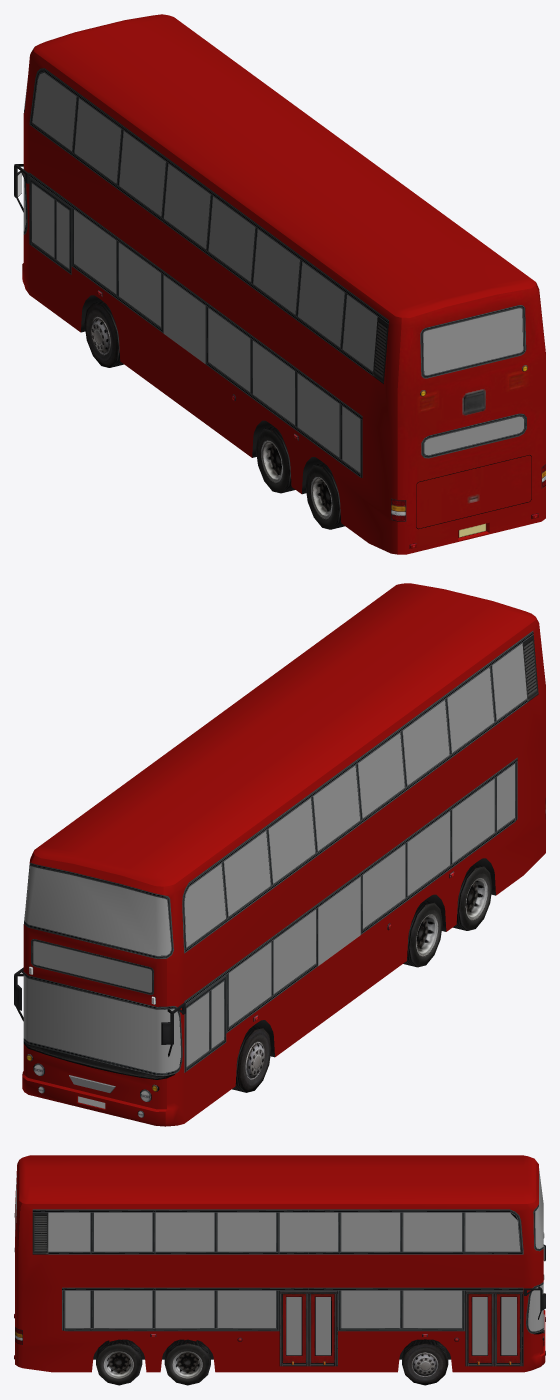
The model's file is Double_Decker_Bus_V3.fbx.
3 renders of one model, top to bottom at view 1: azimuth 30°, elevation 25°; view 2: azimuth 150°, elevation 25°; view 3: azimuth 270°, elevation 25°, orthographic. The views are drawn at different scales.
Parts seen in each view (by area): view 1: DoubleDecker_Body, DeckerBus_Windows_Glass, Decker_Tire_2, Decker_Tire_3, Decker_Tire_1; view 2: DoubleDecker_Body, DeckerBus_Windows_Glass, Decker_Tire_1, Decker_Tire_2, Decker_Tire_3; view 3: DoubleDecker_Body, DeckerBus_Windows_Glass, Door (×4), Glass (×4), Decker_Tire_6, Decker_Tire_5, Decker_Tire_4.
Part boxes in pixels (box(x1,y1,x2,y2)): DoubleDecker_Body: box(14, 14, 545, 554); DeckerBus_Windows_Glass: box(23, 72, 523, 472); Decker_Tire_2: box(256, 426, 295, 493); Decker_Tire_3: box(305, 462, 344, 529); Decker_Tire_1: box(84, 301, 123, 367); DoubleDecker_Body: box(14, 583, 545, 1126); DeckerBus_Windows_Glass: box(23, 643, 526, 1072); Decker_Tire_1: box(232, 1025, 271, 1092); Decker_Tire_2: box(403, 900, 442, 967); Decker_Tire_3: box(453, 864, 492, 930); DoubleDecker_Body: box(14, 1155, 545, 1372); DeckerBus_Windows_Glass: box(15, 1168, 543, 1331); Door (×4): box(279, 1290, 523, 1366); Glass (×4): box(286, 1297, 516, 1355); Decker_Tire_6: box(402, 1339, 448, 1385); Decker_Tire_5: box(164, 1339, 210, 1385); Decker_Tire_4: box(96, 1339, 142, 1385).
Size of the model in its own units: 22.93 by 36.23 by 95.4.
